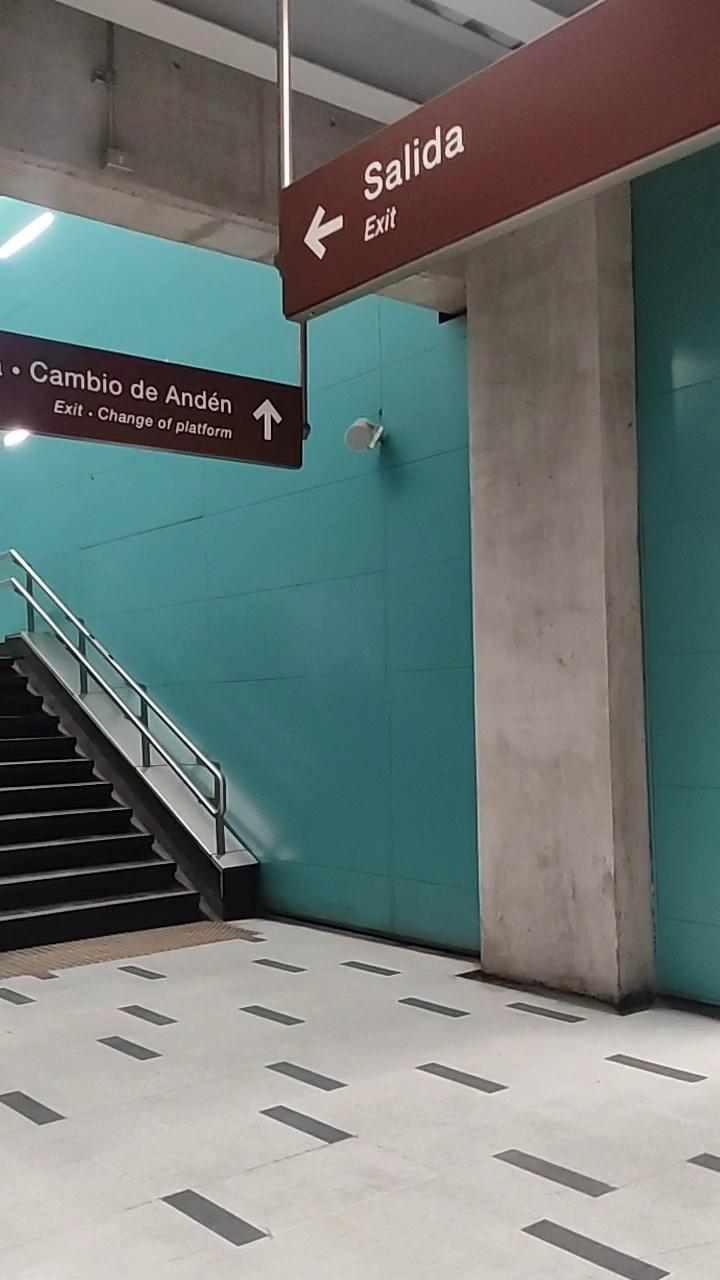left arrow: (302, 205, 347, 261)
up arrow: (251, 397, 285, 442)
